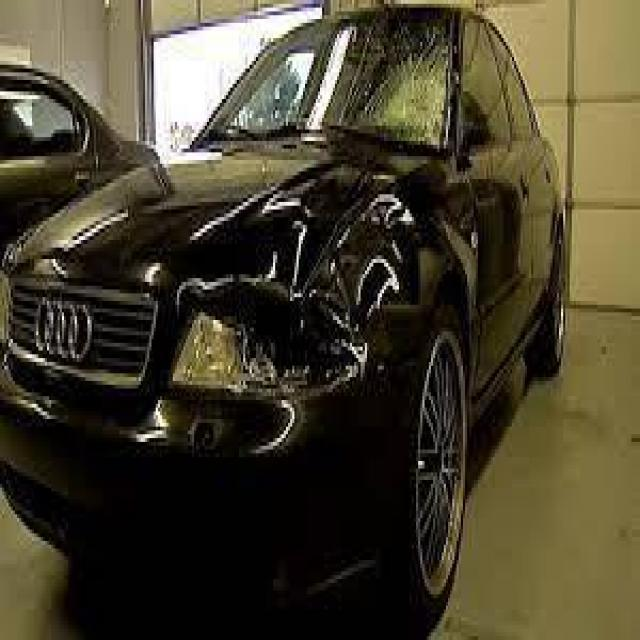damaged: (190, 190, 422, 400)
